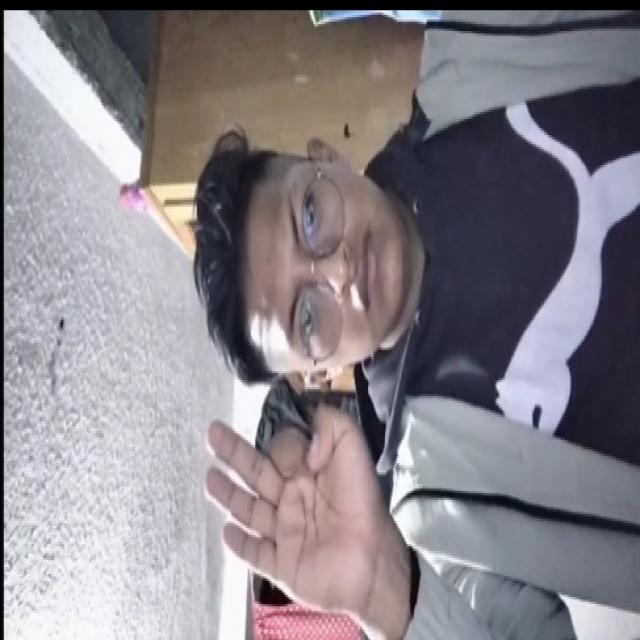F: (182, 366, 404, 614)
